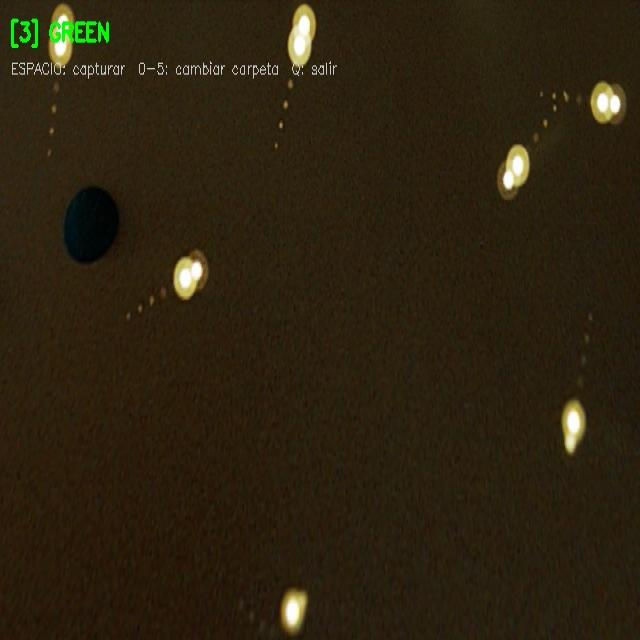green: (64, 187, 117, 268)
